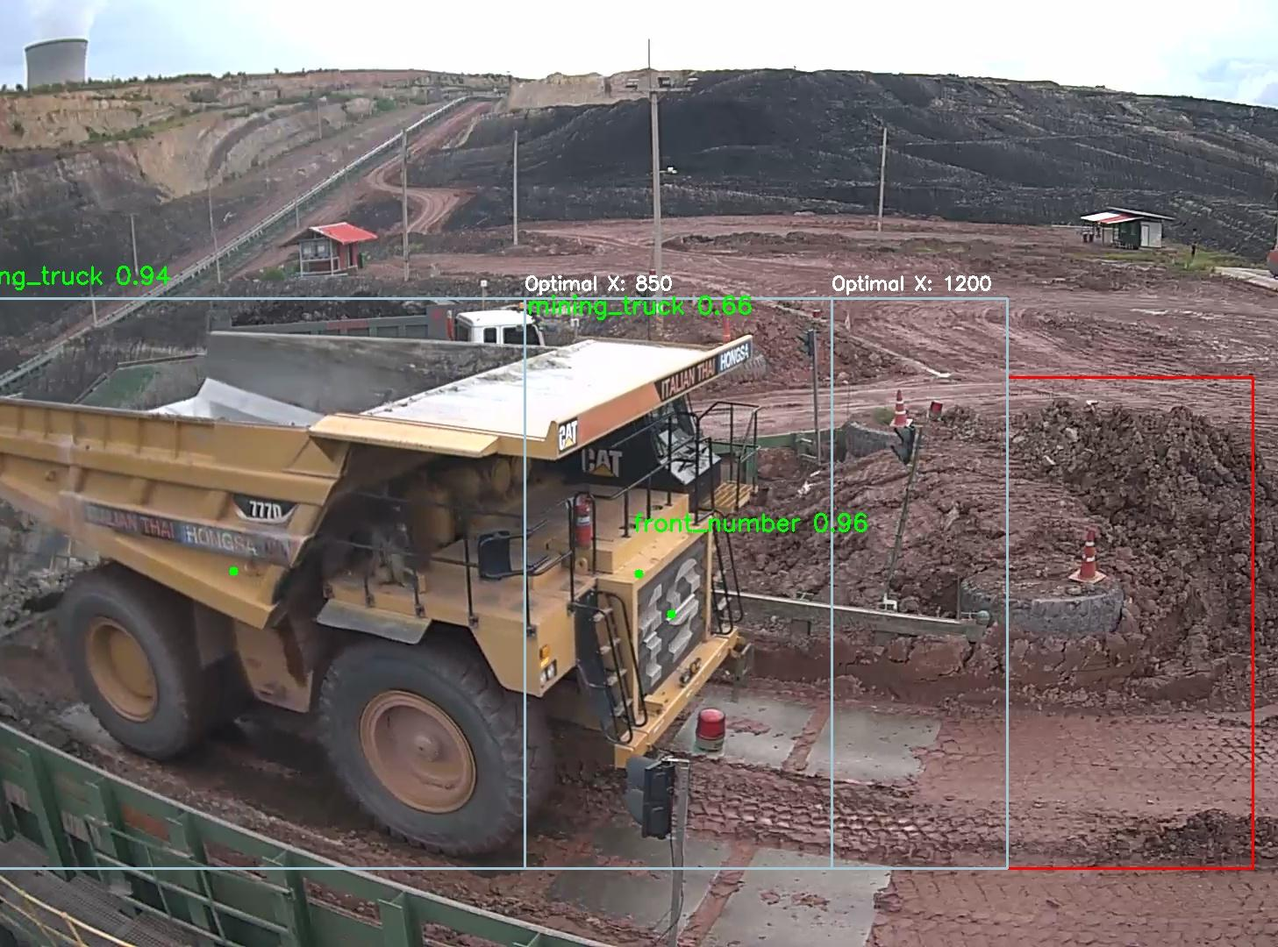company: (63, 499, 258, 574)
empty_load: (148, 328, 479, 455)
mining_truck: (8, 289, 774, 857)
truck_size: (223, 482, 303, 526)
